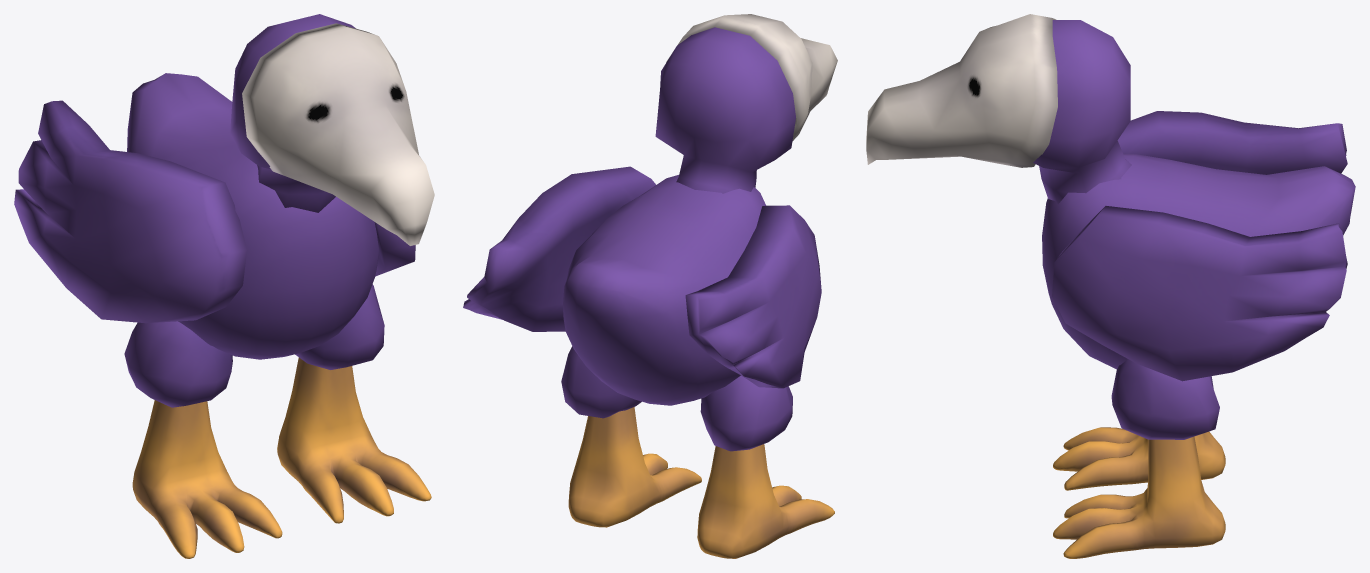
3 views of the same model, side by side, from view 1: azimuth 30°, elevation 25°; view 2: azimuth 150°, elevation 25°; view 3: azimuth 270°, elevation 25° (orthographic). The views are drawn at different scales.
Parts seen in each view (by area): view 1: Plane, Roundcube, Roundcube.003, Vert, Roundcube.001, Roundcube.002; view 2: Plane, Roundcube, Vert, Roundcube.002, Roundcube.001, Roundcube.003; view 3: Plane, Roundcube.003, Roundcube, Vert, Roundcube.002, Roundcube.001.
Boxes of the visible parts, box(x1,y1,x2,y2) form: Plane: box(14, 100, 415, 323); Roundcube: box(127, 73, 378, 359); Roundcube.003: box(242, 23, 434, 245); Vert: box(132, 357, 431, 558); Roundcube.001: box(124, 284, 384, 407); Roundcube.002: box(230, 14, 355, 212); Plane: box(463, 166, 821, 388); Roundcube: box(562, 175, 765, 405); Vert: box(568, 407, 834, 558); Roundcube.002: box(655, 27, 795, 193); Roundcube.001: box(561, 346, 792, 451); Roundcube.003: box(666, 14, 837, 141); Plane: box(1052, 111, 1347, 381); Roundcube.003: box(866, 14, 1057, 167); Roundcube: box(1042, 153, 1355, 369); Vert: box(1053, 427, 1225, 558); Roundcube.002: box(1033, 20, 1131, 204); Roundcube.001: box(1111, 359, 1219, 439).
Size of the model in its own units: 1.5 by 2.25 by 2.07.
Materials: 1 (1 with a texture image).
